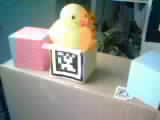duck: (41, 6, 107, 40)
